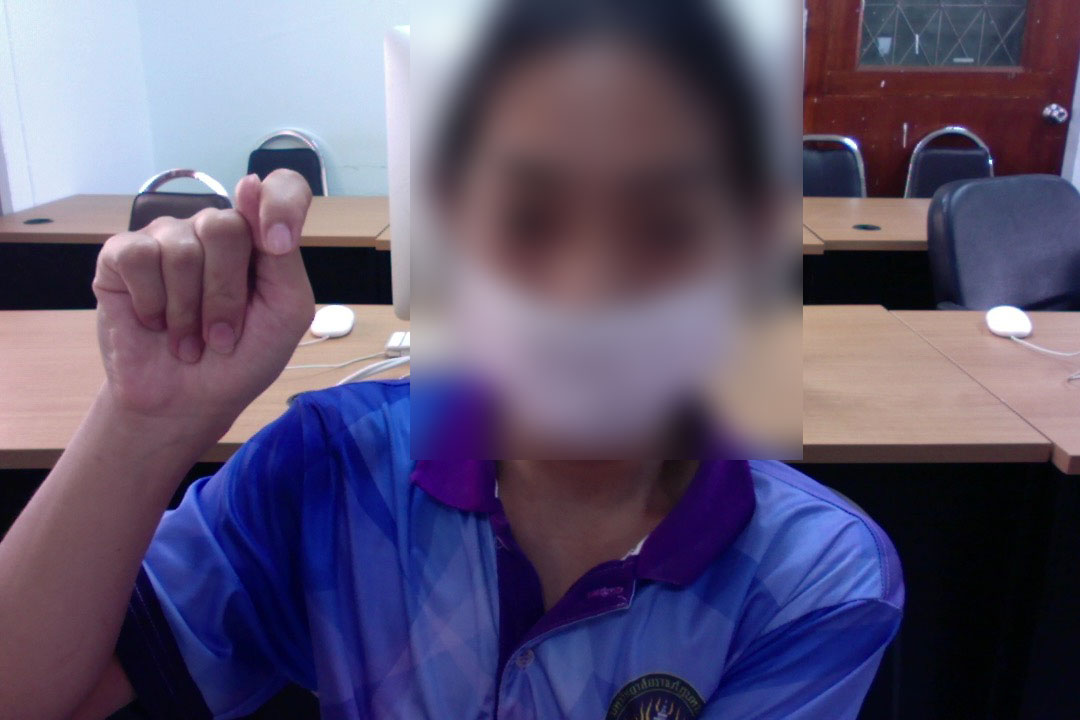tor: (87, 166, 320, 431)
